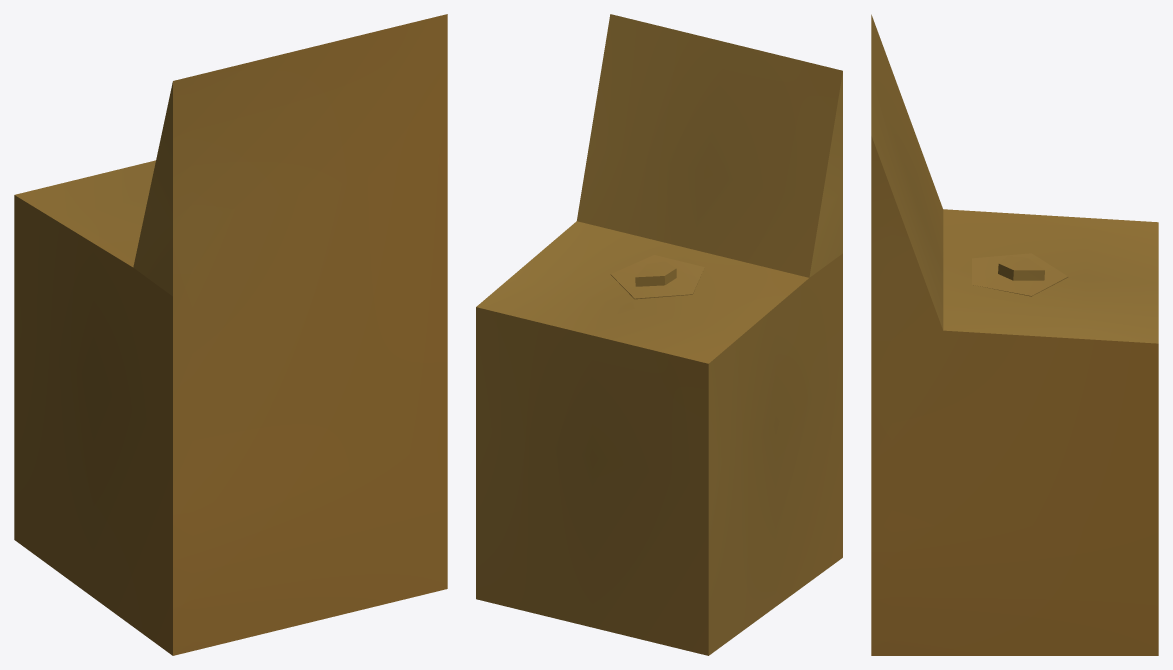
Rendered from Music Controller.fbx.
3 renders of one model, left to right at view 1: azimuth 30°, elevation 25°; view 2: azimuth 150°, elevation 25°; view 3: azimuth 270°, elevation 25°, orthographic. The views are drawn at different scales.
Parts seen in each view (by area): view 1: cuboid; view 2: cuboid, cylinder; view 3: cuboid, cylinder.
Boxes of the visible parts, <box> form: cuboid: <box>14,14,447,655</box>; cuboid: <box>476,14,842,655</box>; cylinder: <box>610,255,704,299</box>; cuboid: <box>871,14,1158,655</box>; cylinder: <box>972,253,1068,296</box>.
Size of the model in its own units: 100 by 200 by 100.
1 material, 1 textured.
